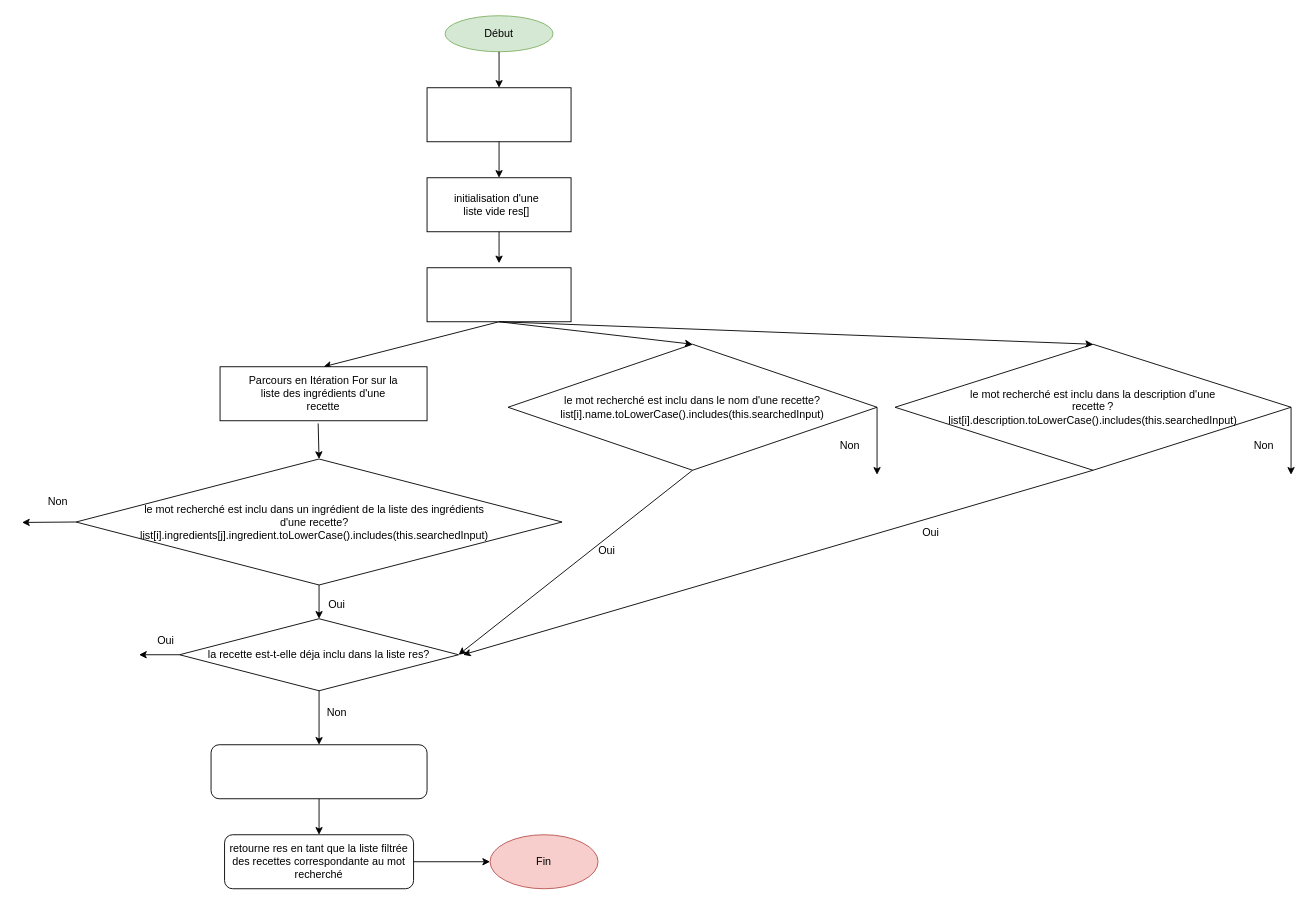
Image size: 1314x905. Some labels were removed from this diagram. The shapes that lost their labels are listed below. From the top down, each one's centre as x and y in pixels, then its label:
At point 498,114: "Recherche de l'utilisateur".
At point 498,294: "Parcours en Itération For sur la liste des recettes".
At point 318,771: "La recette est poussée dans la liste res res.push(list[i])".
